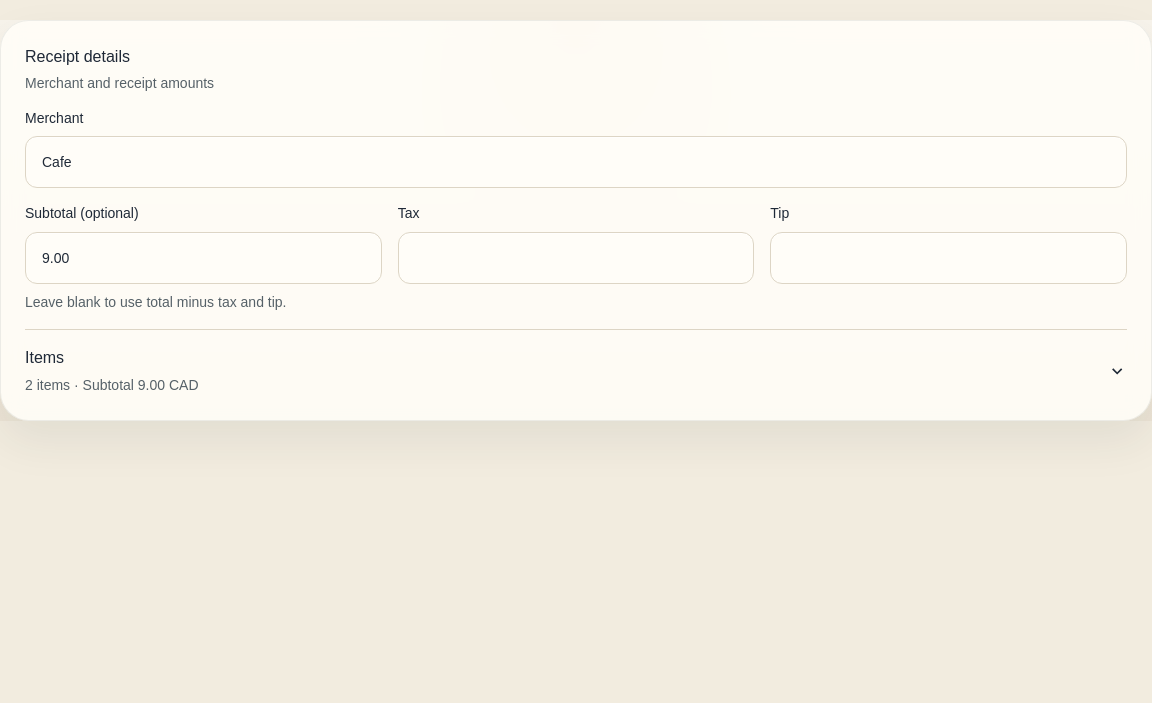
Test: Create Expense receipt items › folds edit items while retaining summary fields and unsaved item changes
Expected: the field labelled "Merchant" holds "Cafe", [25,136,1127,188]
Expected: the number field labelled "Subtotal (optional)" is shown, [25,232,382,284]
Click the button "Items 2 items · Subtotal 9.00 CAD" at [45, 357], box [25,346,1127,396]
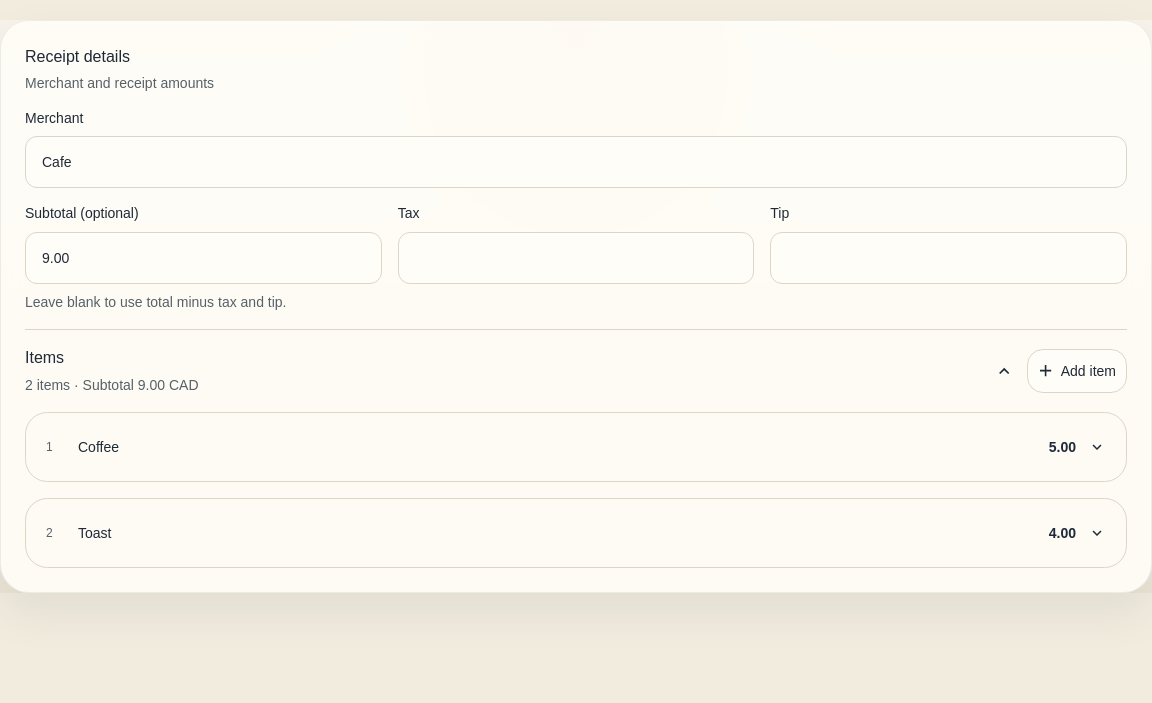
Click the button with aria-label "Item 1: Coffee, 5.00" at [98, 447], box [38,425,1114,469]
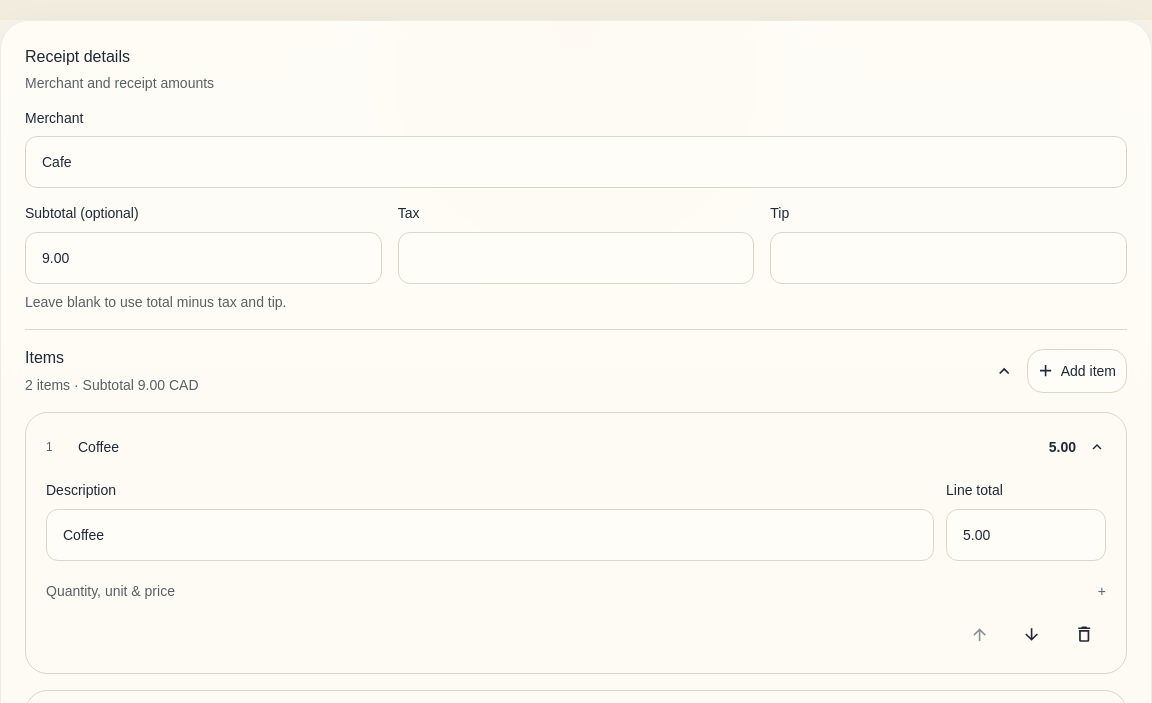
Replace the text in the field labelled "Description" with "Latte" at [490, 534], box [46,508,934,560]
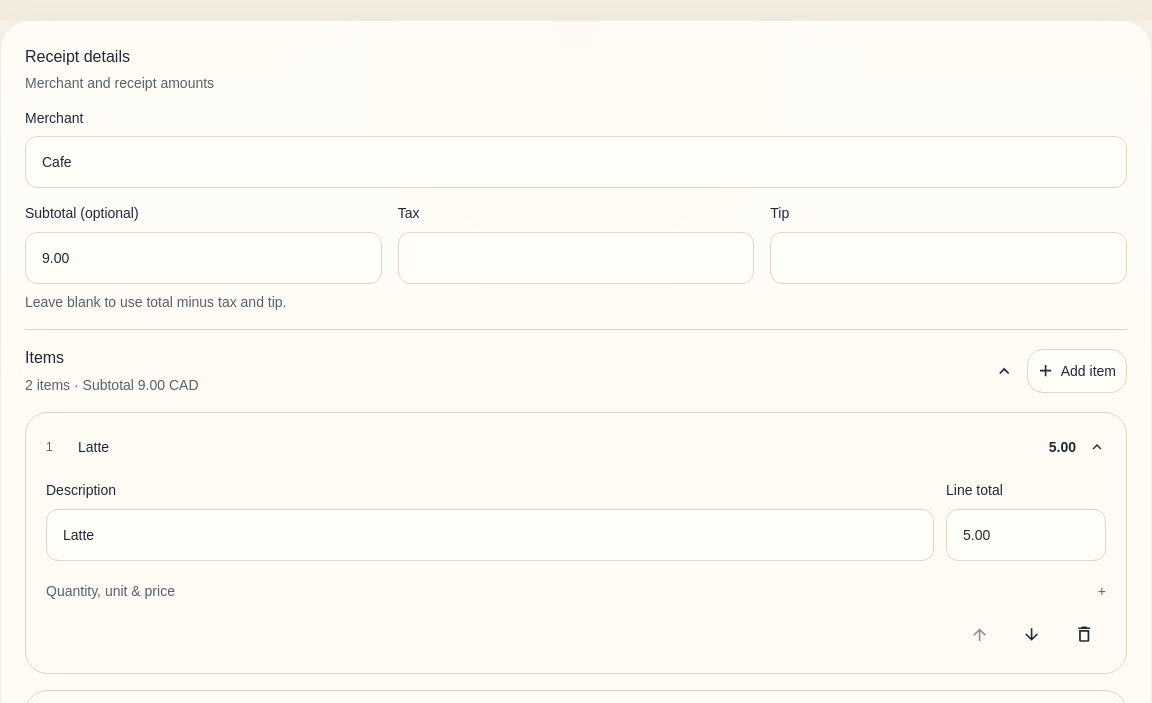
Click the button "Items 2 items · Subtotal 9.00 CAD" at [45, 357], box [25,346,1015,396]
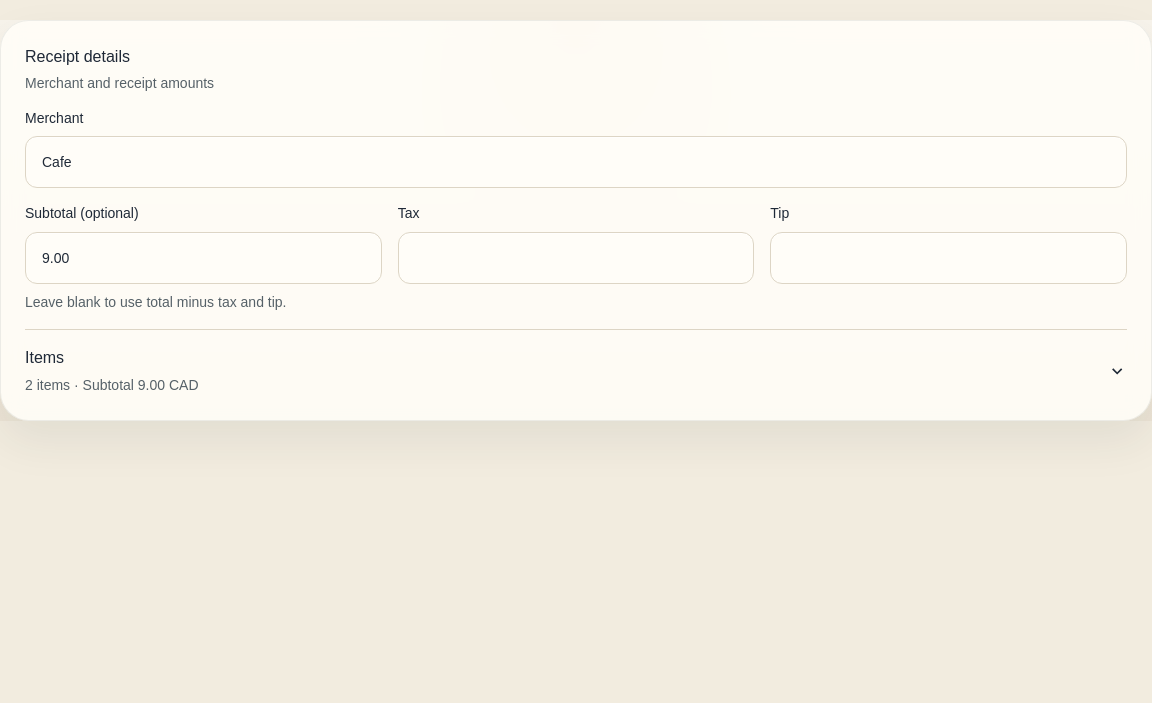
Result: the label labelled "Description" is gone
Click the button "Items 2 items · Subtotal 9.00 CAD" at [45, 357], box [25,346,1127,396]
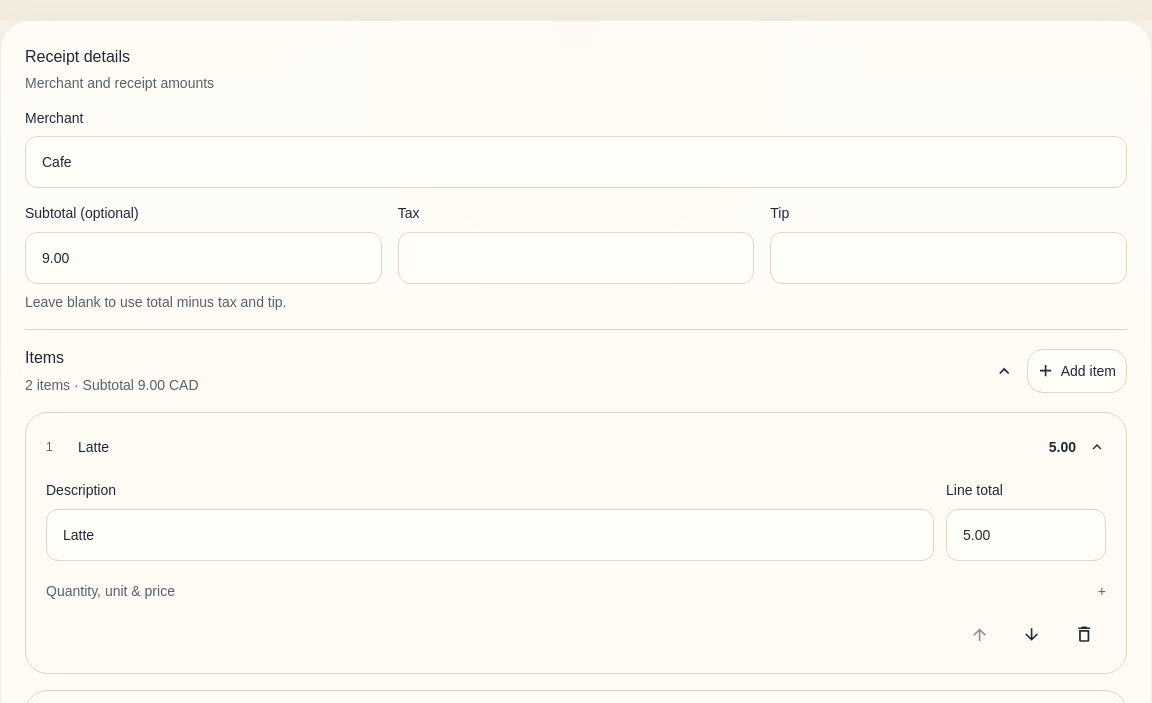
Result: the field labelled "Description" holds "Latte" at [46,508,934,560]
Result: the button "Add item" is shown at [1027,349,1127,393]
